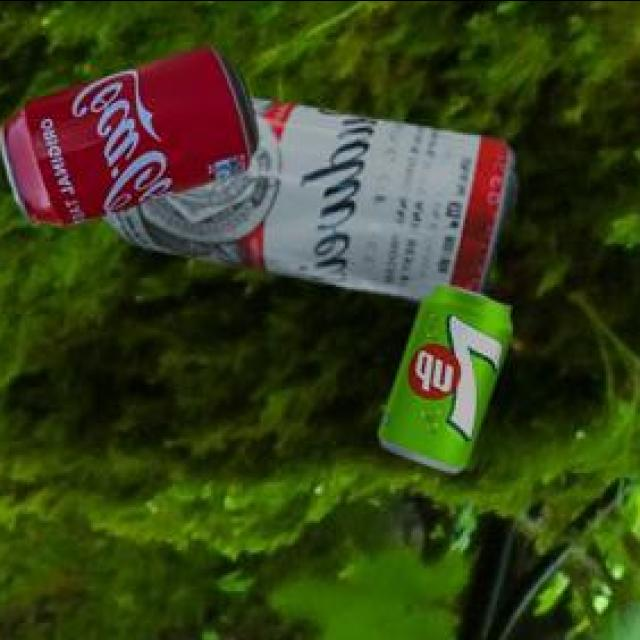logam: (106, 99, 519, 305), (3, 49, 260, 228), (382, 287, 516, 475)
